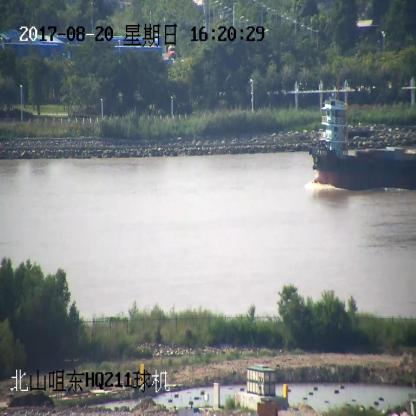Container Ship: (312, 93, 415, 191)
